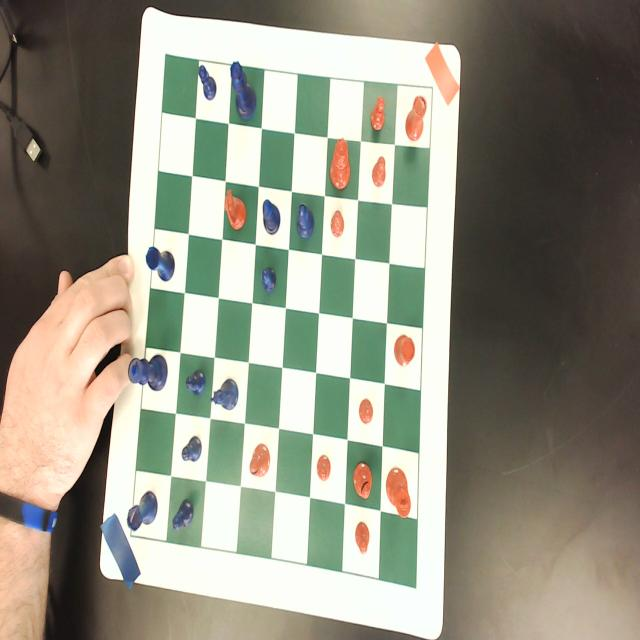B: (262, 198, 281, 236), (296, 204, 314, 241)
K: (128, 353, 169, 393)
N: (210, 378, 239, 413)
P: (197, 64, 218, 102), (172, 498, 194, 531), (185, 368, 207, 398), (181, 433, 202, 463), (260, 262, 277, 294)
Q: (230, 60, 256, 122)
R: (126, 489, 158, 535), (145, 245, 175, 282)
b: (249, 443, 270, 480), (353, 462, 373, 499)
k: (385, 466, 411, 519)
n: (223, 188, 247, 232)
p: (370, 96, 386, 132), (355, 520, 370, 556), (372, 155, 386, 187), (330, 209, 344, 238), (317, 454, 331, 482), (358, 398, 373, 423)
q: (329, 137, 351, 190)
r: (406, 95, 427, 141), (394, 334, 415, 366)
